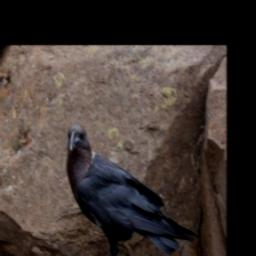Crow: (67, 122, 198, 256)
